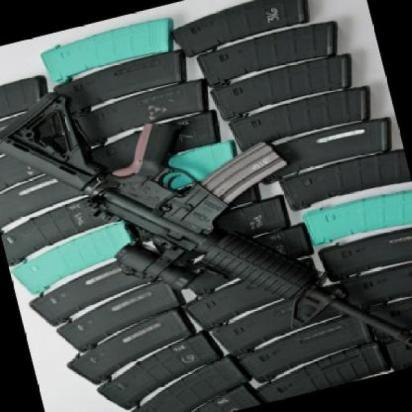Gun: (0, 9, 412, 412)
